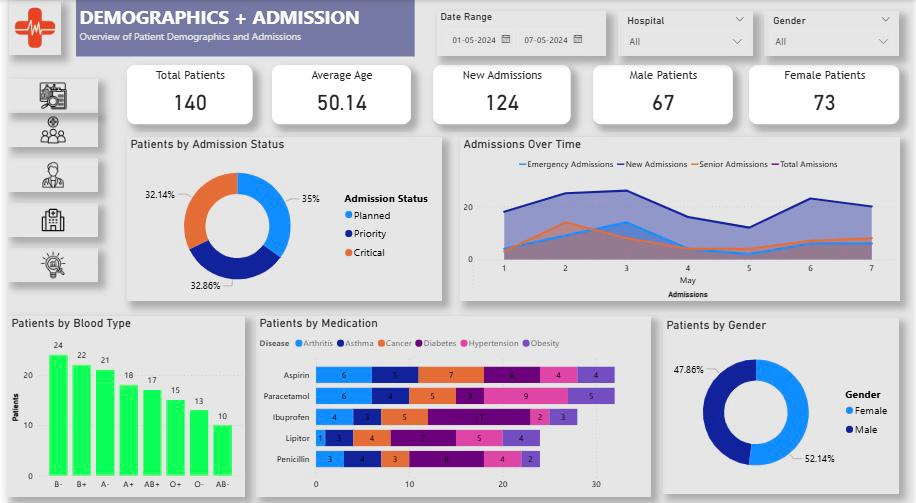

Layout of this report page (visuals, bound fields, positions):
{"tool":"powerbi","page":{"name":"Page 2","canvas":[1280,720],"ordinal":1},"visuals":[{"type":"shape","box":[0,80,160,640],"z":0},{"type":"image","box":[1.7,1.7,73.9,75.6],"z":1000},{"type":"card","title":"Total Patients","fields":{"Values":["HospitalData.Total Patients"]},"box":[168,92.4,178.1,84],"z":2000},{"type":"card","title":"Average Age","fields":{"Values":["HospitalData.Average Age"]},"box":[374.6,92.4,196.5,84],"z":4000},{"type":"card","title":"Male Patients","fields":{"Values":["HospitalData.Male Patients"]},"box":[829.8,92.4,198.2,84],"z":5000},{"type":"card","title":"Female Patients","fields":{"Values":["HospitalData.Female Patients"]},"box":[1049.9,92.4,213.3,84],"z":6000},{"type":"card","title":"New Admissions","fields":{"Values":["HospitalData.Unique Patients"]},"box":[603,92.4,194.9,84],"z":7000},{"type":"donutChart","title":"Patients by Gender","fields":{"Category":["HospitalData.Gender"],"Y":["HospitalData.Total Patients"]},"box":[928.9,450.2,334.3,248.6],"z":8000},{"type":"lineChart","title":"Admissions Over Time","fields":{"Category":["HospitalData.Admission Date.Variation.Date Hierarchy.Month","HospitalData.Admission Date.Variation.Date Hierarchy.Day"],"Y":["HospitalData.Emergency Admissions","HospitalData.New Admissions","HospitalData.Senior Admissions","HospitalData.Total Amissions"]},"box":[640,194.9,623.2,233.5],"z":9000},{"type":"clusteredColumnChart","title":"Patients by Blood Type","fields":{"Category":["HospitalData.Blood Type"],"Y":["HospitalData.Total Patients"]},"box":[0,448,336,256],"z":10000},{"type":"barChart","title":"Prescription for Different Medical Condition","fields":{"Category":["HospitalData.Medication"],"Y":["HospitalData.Total Patients"],"Series":["HospitalData.Disease"]},"box":[352,448,560,256],"z":11000},{"type":"slicer","title":"Date Range","fields":{"Values":["HospitalData.Admission Date"]},"box":[608,16,240,64],"z":12000},{"type":"slicer","fields":{"Values":["HospitalData.Hospital"]},"box":[864,16,192,64],"z":13000},{"type":"slicer","fields":{"Values":["HospitalData.Gender"]},"box":[1072,16,192,64],"z":14000},{"type":"donutChart","title":"Patients by Admission Status ","fields":{"Y":["HospitalData.Total Patients"],"Category":["HospitalData.Admission Status"]},"box":[168,194.9,446.8,233.5],"z":15000},{"type":"textbox","box":[96,0,480,80],"z":16000},{"type":"image","box":[0,112,128,48],"z":18000},{"type":"image","box":[0,160,128,48],"z":19000},{"type":"image","box":[0,224,128,48],"z":20000},{"type":"image","box":[0,288,128,48],"z":21000},{"type":"image","box":[0,352,128,48],"z":22000}]}

Visuals, with their boxes in screenshot pixels (x1, y1, x2, y2), scaled from the page's 1280x720 canvas onto the 916x503 screenshot:
shape: <region>0, 56, 114, 502</region>
image: <region>1, 1, 54, 54</region>
"Total Patients" card: <region>120, 65, 248, 123</region>
"Average Age" card: <region>268, 65, 409, 123</region>
"Male Patients" card: <region>594, 65, 736, 123</region>
"Female Patients" card: <region>751, 65, 904, 123</region>
"New Admissions" card: <region>432, 65, 571, 123</region>
"Patients by Gender" donutChart: <region>665, 315, 904, 488</region>
"Admissions Over Time" lineChart: <region>458, 136, 904, 299</region>
"Patients by Blood Type" clusteredColumnChart: <region>0, 313, 240, 492</region>
"Prescription for Different Medical Condition" barChart: <region>252, 313, 653, 492</region>
"Date Range" slicer: <region>435, 11, 607, 56</region>
slicer - HospitalData.Hospital: <region>618, 11, 756, 56</region>
slicer - HospitalData.Gender: <region>767, 11, 905, 56</region>
"Patients by Admission Status " donutChart: <region>120, 136, 440, 299</region>
textbox: <region>69, 0, 412, 56</region>
image: <region>0, 78, 92, 112</region>
image: <region>0, 112, 92, 145</region>
image: <region>0, 156, 92, 190</region>
image: <region>0, 201, 92, 235</region>
image: <region>0, 246, 92, 279</region>
